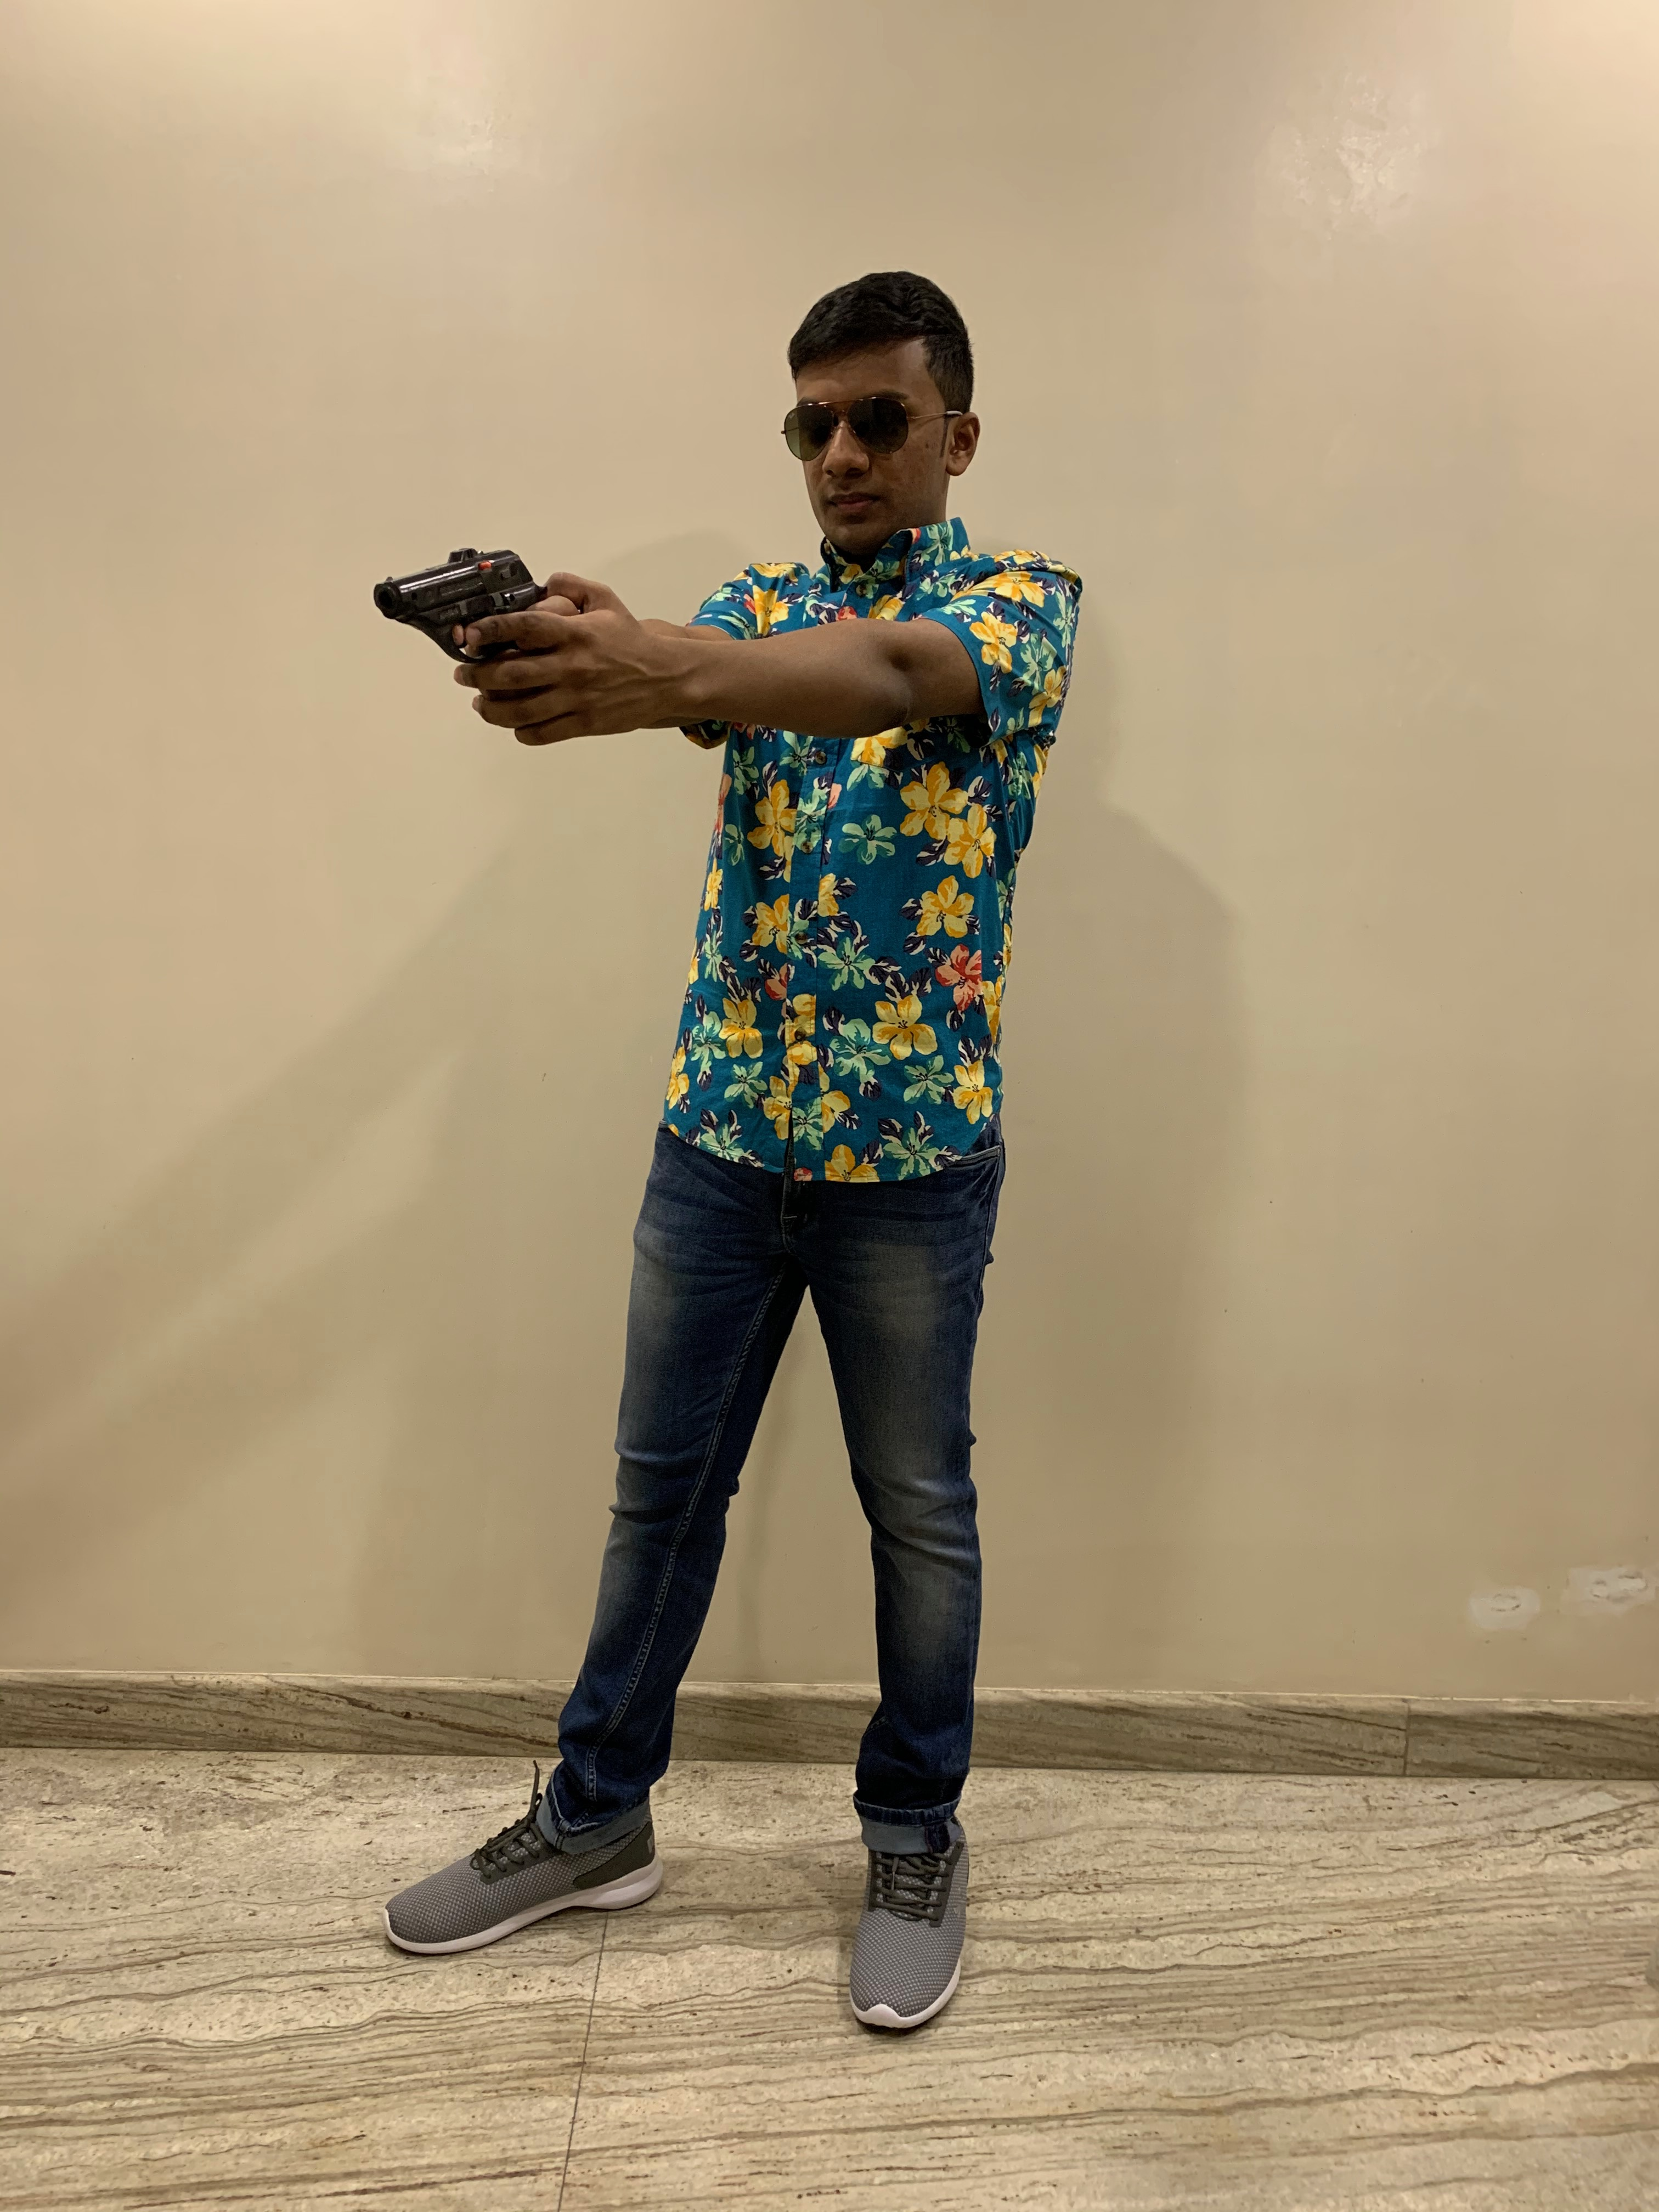gun: (375, 545, 561, 662)
